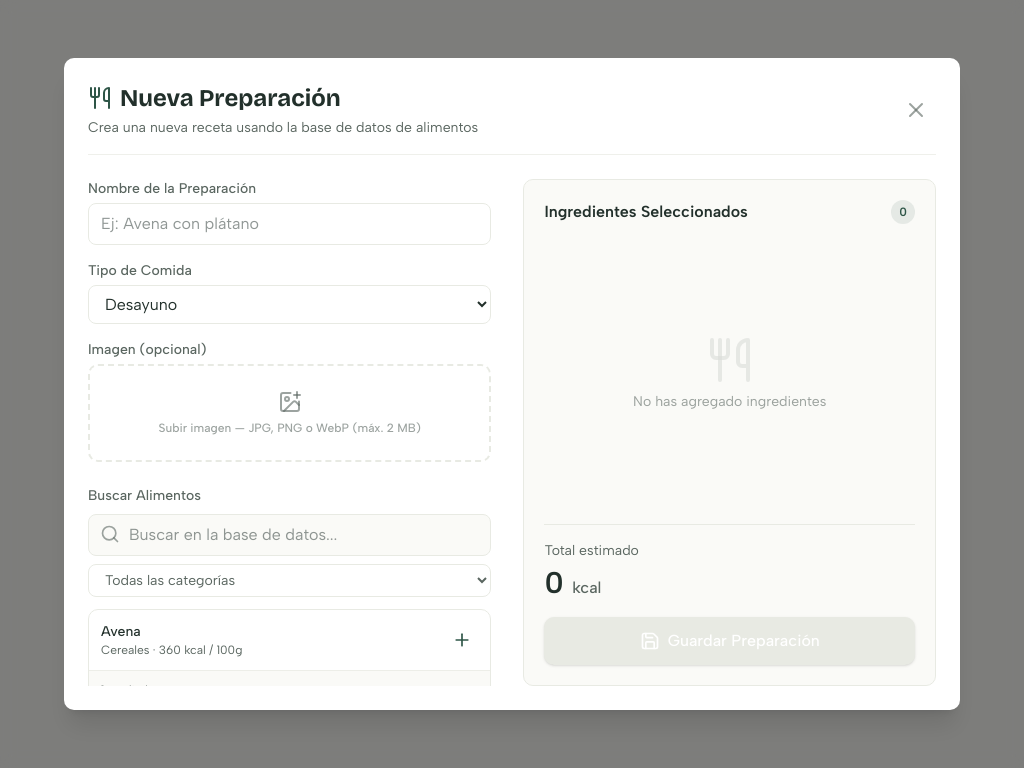
Test: ModalNuevaPreparacion › búsqueda de alimentos › con nombre e ingrediente añadido el botón guardar se habilita
This screenshot has width=1024, height=768.
Step 1. Type "Mi receta" into the field with placeholder "Ej: Avena con plátano" → (290, 224), box 88,203 -> 492,245
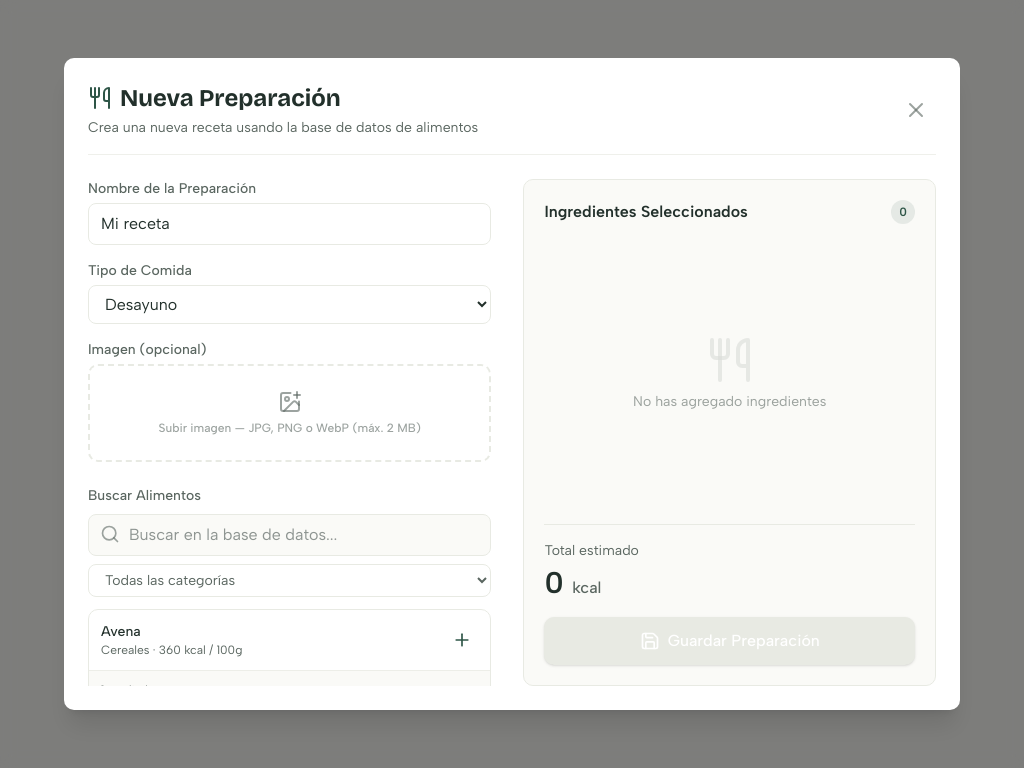
Step 2. Type "avena" into the field with placeholder "Buscar en la base de datos..." → (290, 535), box 88,514 -> 492,556
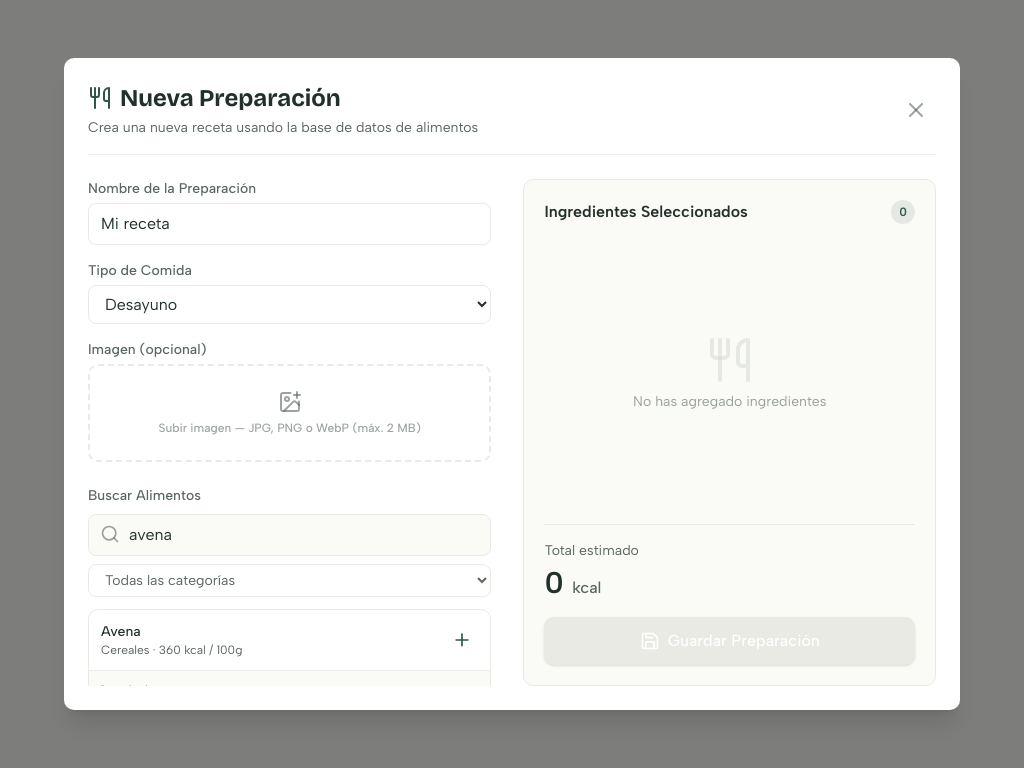
Step 3. Click the button named "Agregar Avena" → (462, 640), box 446,624 -> 478,656
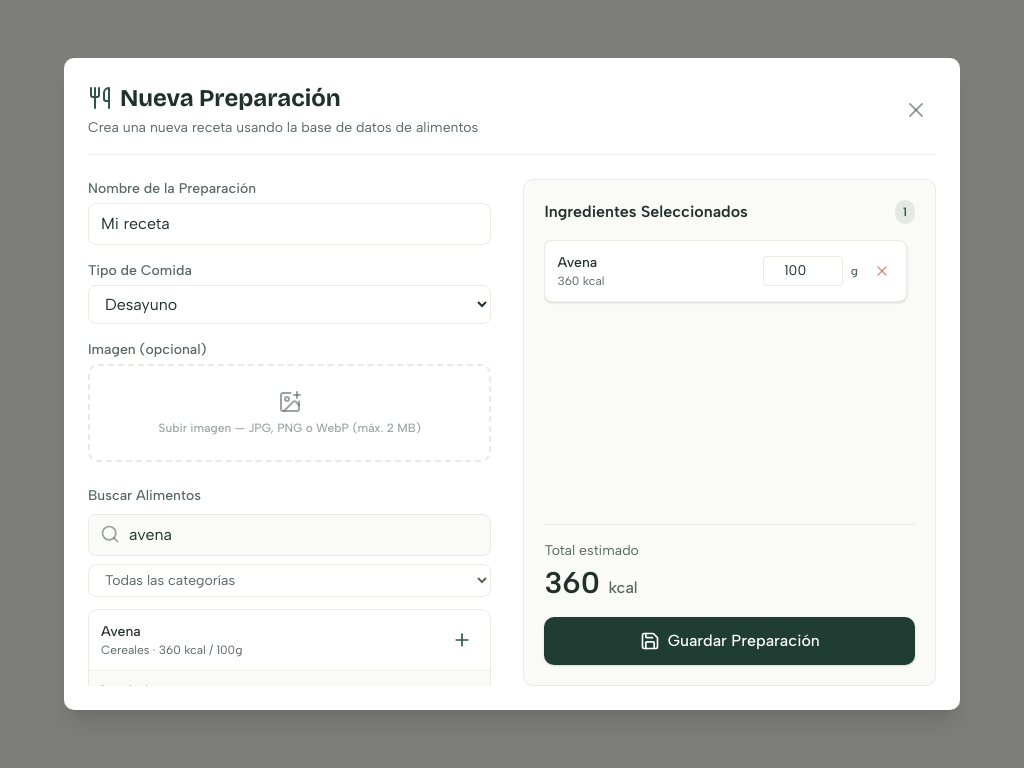
expect the button "Guardar Preparación" is enabled: met, box 544,617 -> 915,665
